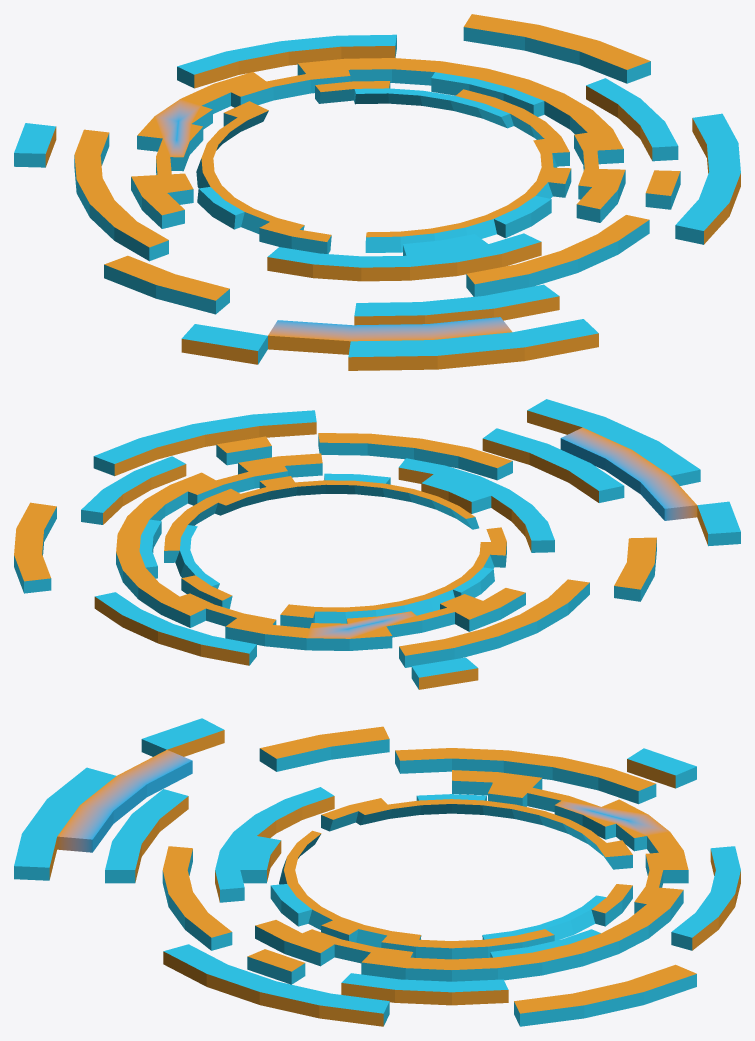
Rendered from 13 ring.fbx.
3 views of the same model, one above another, from view 1: azimuth 30°, elevation 25°; view 2: azimuth 150°, elevation 25°; view 3: azimuth 270°, elevation 25° (orthographic). The views are drawn at different scales.
Visible parts, largest first — view 1: PM3D_Ring3D6, PM3D_Ring3D4, PM3D_Ring3D3, PM3D_Ring3D2, PM3D_Ring3D5; view 2: PM3D_Ring3D6, PM3D_Ring3D3, PM3D_Ring3D4, PM3D_Ring3D2, PM3D_Ring3D5; view 3: PM3D_Ring3D6, PM3D_Ring3D4, PM3D_Ring3D3, PM3D_Ring3D2, PM3D_Ring3D5.
Part boxes in pixels (x1,y1,x2,y2): PM3D_Ring3D6: [131, 58, 625, 281]; PM3D_Ring3D4: [14, 14, 740, 325]; PM3D_Ring3D3: [74, 34, 680, 296]; PM3D_Ring3D2: [196, 81, 571, 253]; PM3D_Ring3D5: [181, 317, 598, 370]; PM3D_Ring3D6: [116, 453, 554, 650]; PM3D_Ring3D3: [81, 433, 589, 667]; PM3D_Ring3D4: [14, 410, 656, 689]; PM3D_Ring3D2: [164, 473, 506, 628]; PM3D_Ring3D5: [527, 399, 740, 546]; PM3D_Ring3D6: [215, 770, 688, 981]; PM3D_Ring3D4: [105, 726, 696, 1026]; PM3D_Ring3D3: [162, 748, 740, 1005]; PM3D_Ring3D2: [270, 794, 632, 959]; PM3D_Ring3D5: [14, 718, 224, 880].
Size of the model in its own units: 4862 by 100 by 5055.
